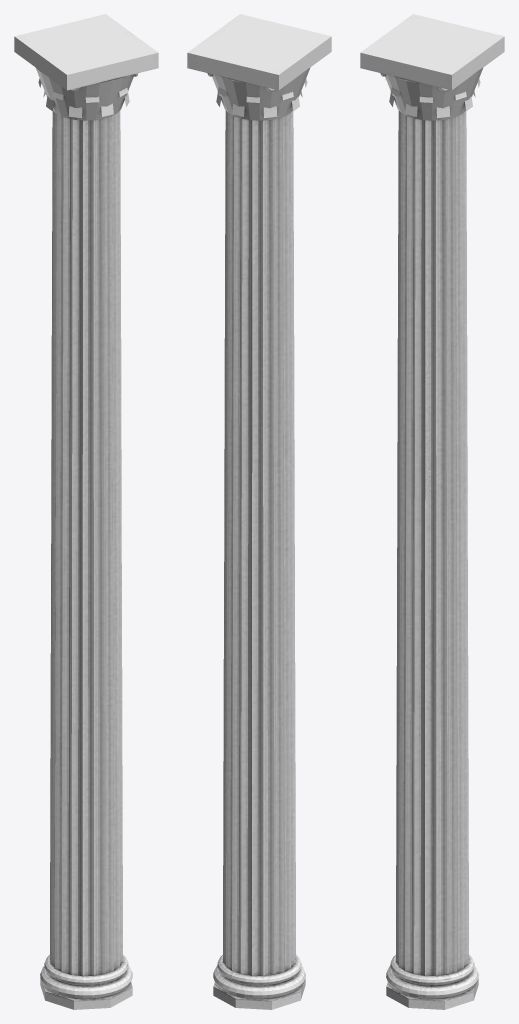
The model's file is column_hall_w3.glb.
3 renders of one model, left to right at view 1: azimuth 30°, elevation 25°; view 2: azimuth 150°, elevation 25°; view 3: azimuth 330°, elevation 25°, orthographic.
Parts seen in each view (by area): view 1: ColMarble, ColCapital; view 2: ColMarble, ColCapital; view 3: ColMarble, ColCapital.
Boxes of the visible parts, x1,y1,x2,y2 form: ColMarble: (14,14,158,1009); ColCapital: (35,67,138,120); ColMarble: (187,14,331,1009); ColCapital: (207,67,310,120); ColMarble: (360,14,504,1009); ColCapital: (380,68,482,120).
Size of the model in its own units: 1.24 by 12.24 by 1.24.
Materials: 2 (2 with a texture image).
